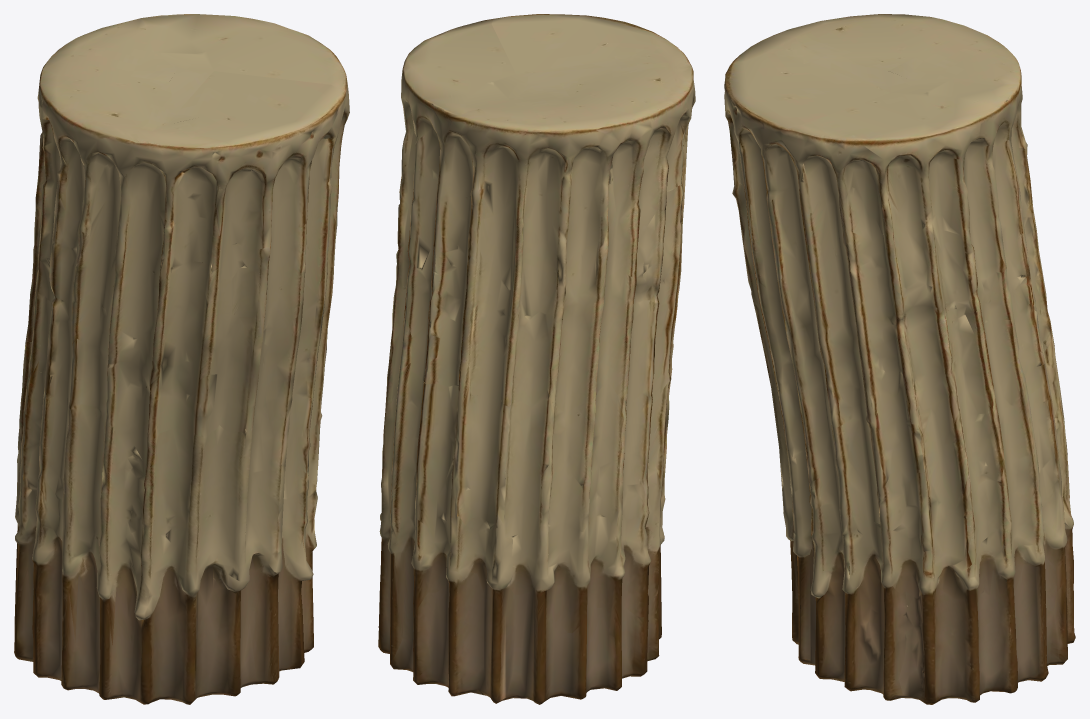
Rendered from 05_1_mp_ecs_y3_stool.glb.
3 views of the same model, side by side, from view 1: azimuth 30°, elevation 25°; view 2: azimuth 150°, elevation 25°; view 3: azimuth 270°, elevation 25° (orthographic). The views are drawn at different scales.
Visible parts, largest first — view 1: tripo_material_557b03e5-652e-41f2-a260-a54ad748cca0; view 2: tripo_material_557b03e5-652e-41f2-a260-a54ad748cca0; view 3: tripo_material_557b03e5-652e-41f2-a260-a54ad748cca0.
Part boxes in pixels (box(x1,y1,x2,y2)): tripo_material_557b03e5-652e-41f2-a260-a54ad748cca0: box(14, 14, 349, 704); tripo_material_557b03e5-652e-41f2-a260-a54ad748cca0: box(378, 14, 695, 704); tripo_material_557b03e5-652e-41f2-a260-a54ad748cca0: box(724, 14, 1075, 704).
Size of the model in its own units: 0.226 by 0.4699 by 0.2618.
Materials: 1 (1 with a texture image).
